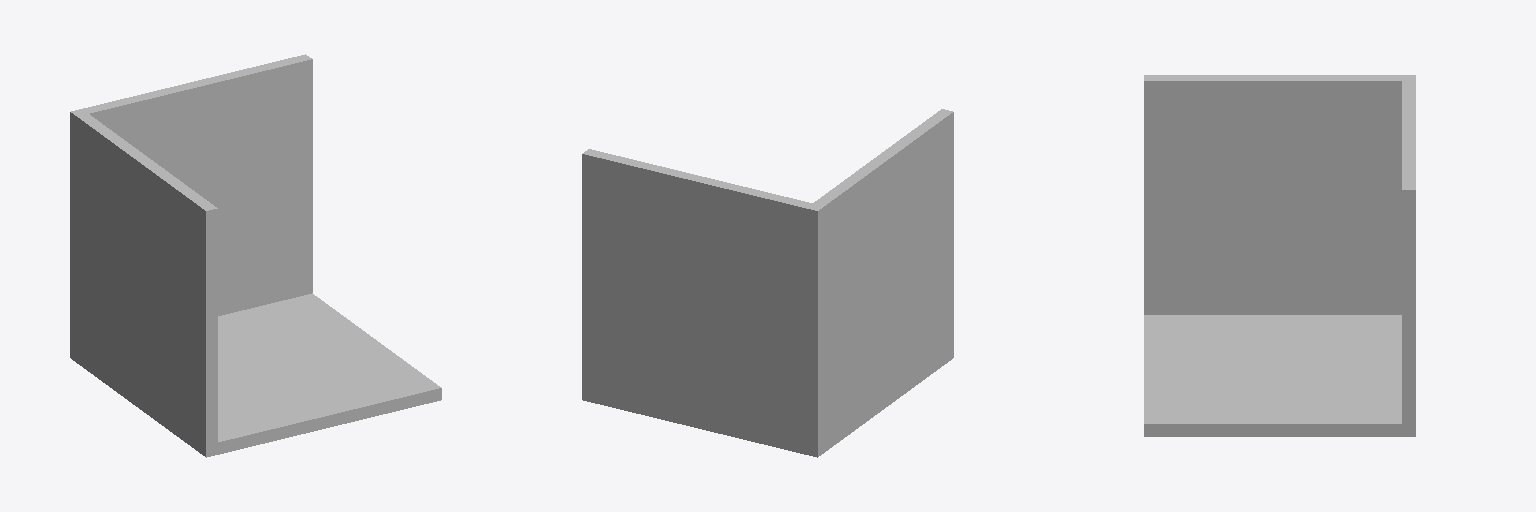
The model's file is room.obj.
3 views of the same model, side by side, from view 1: azimuth 30°, elevation 25°; view 2: azimuth 150°, elevation 25°; view 3: azimuth 270°, elevation 25° (orthographic).
Visible parts, largest first — view 1: obj_0; view 2: obj_0; view 3: obj_0.
Part boxes in pixels (x1,y1,x2,y2): obj_0: (70, 54, 441, 457); obj_0: (582, 109, 953, 457); obj_0: (1144, 75, 1415, 436).
Bounding box in the file's own units: 20 × 20 × 20.